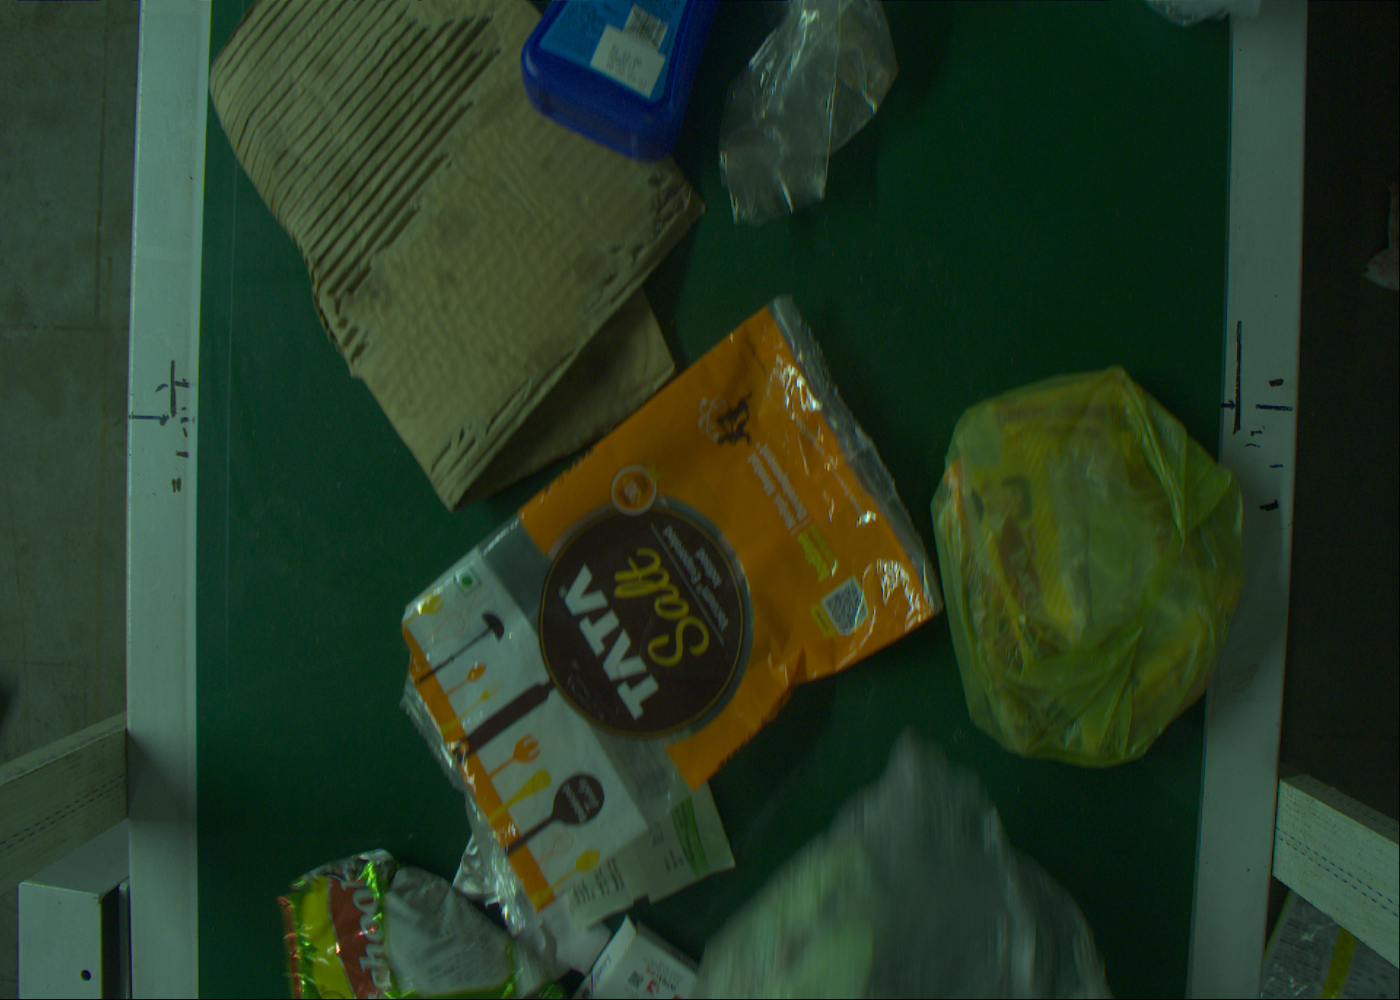cardboard: (211, 1, 682, 506)
hdpe_bottle: (524, 1, 712, 131)
hm_ldpe: (924, 361, 1247, 773)
multilayer_plastic: (272, 841, 538, 1000)
pet_bottle: (711, 1, 901, 237)
pp_w: (401, 298, 934, 902)
